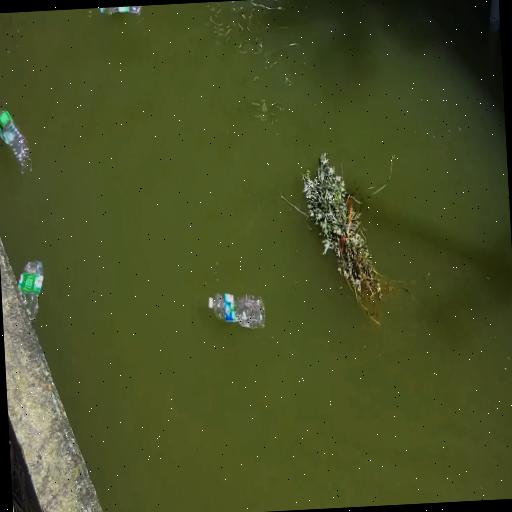plastic: (0, 110, 31, 174), (208, 294, 264, 329), (17, 261, 42, 321), (99, 6, 140, 15)
twig: (303, 152, 383, 318)
